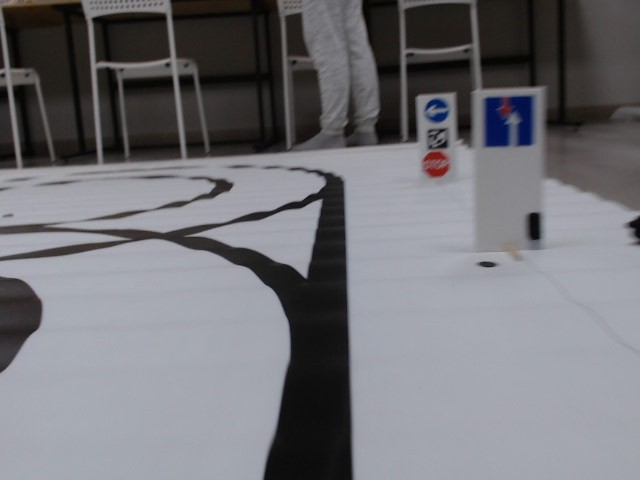Stop: (423, 152, 449, 179)
priority_movement: (482, 94, 539, 150)
